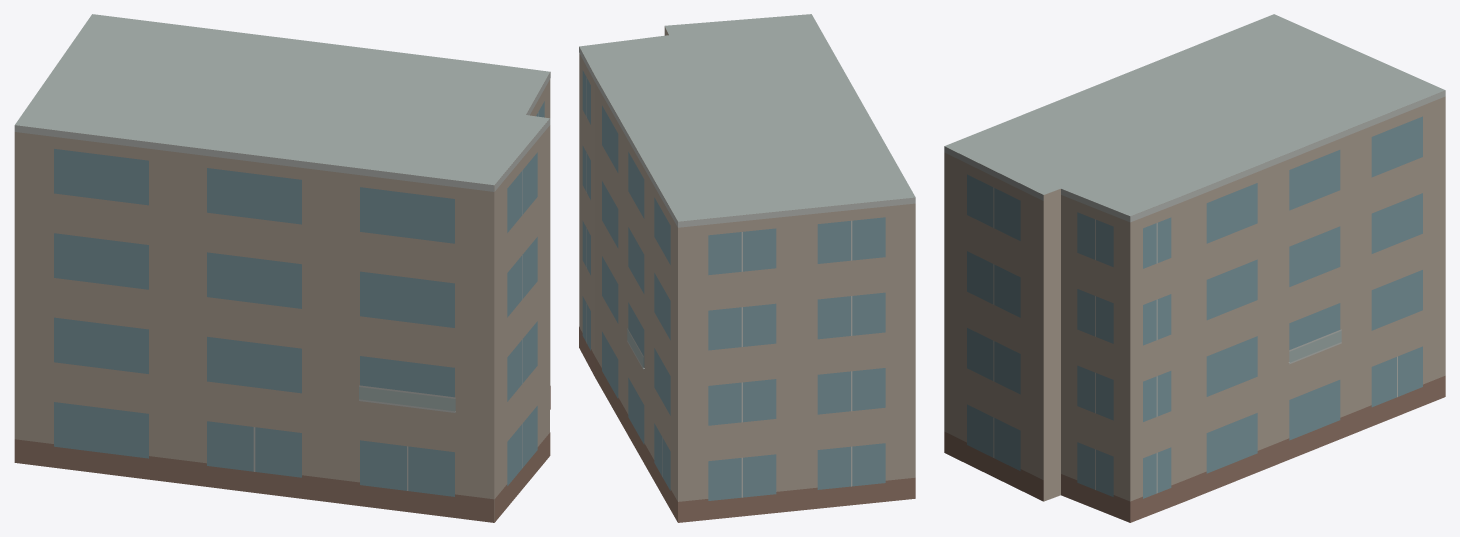
Rendered from survey-upis-32795605.glb.
The picture shows the model from 3 angles, left to right: view 1: azimuth 30°, elevation 25°; view 2: azimuth 150°, elevation 25°; view 3: azimuth 270°, elevation 25°; orthographic projection. The views are drawn at different scales.
Parts seen in each view (by area): view 1: survey-upis-32795605.tmp; view 2: survey-upis-32795605.tmp; view 3: survey-upis-32795605.tmp.
Part boxes in pixels (box(x1,y1,x2,y2)): survey-upis-32795605.tmp: box(14, 14, 550, 522); survey-upis-32795605.tmp: box(579, 14, 915, 522); survey-upis-32795605.tmp: box(944, 14, 1445, 522).
Size of the model in its own units: 17.27 by 12.2 by 18.09.
